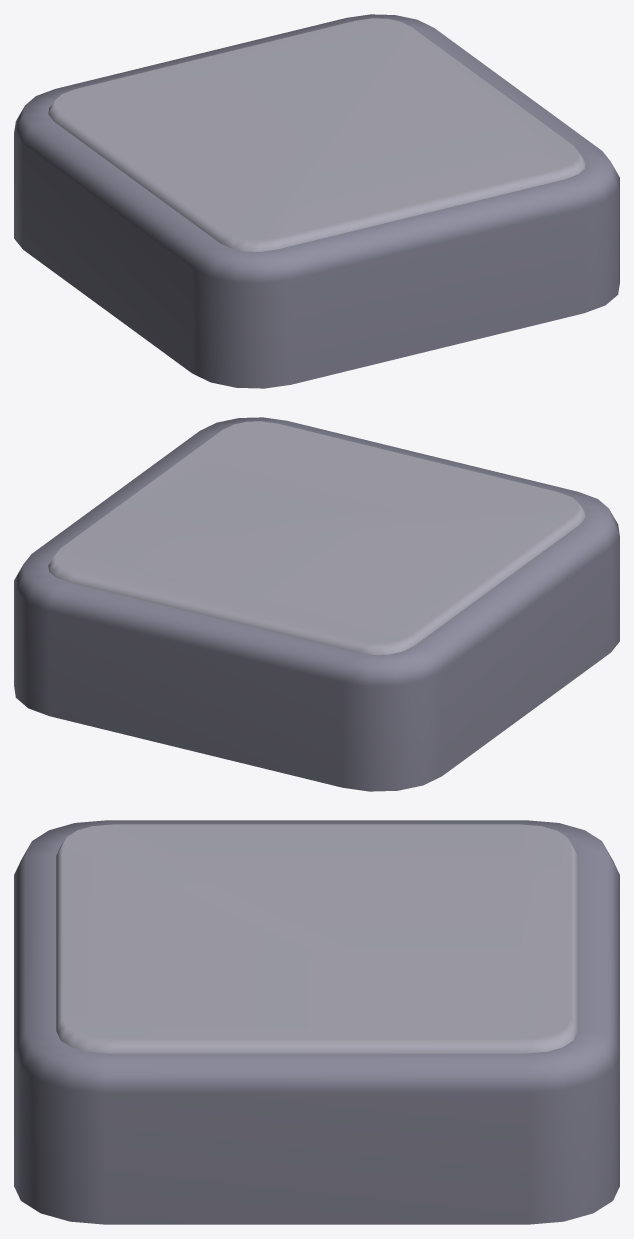
The model's file is Queue.fbx.
3 views of the same model, one above another, from view 1: azimuth 30°, elevation 25°; view 2: azimuth 150°, elevation 25°; view 3: azimuth 270°, elevation 25° (orthographic). The views are drawn at different scales.
Parts seen in each view (by area): view 1: Queue; view 2: Queue; view 3: Queue.
Part boxes in pixels (x1,y1,x2,y2): Queue: (14,14,619,388); Queue: (14,417,619,791); Queue: (14,820,619,1224).
Bounding box in the file's own units: 1 × 0.3 × 1.
